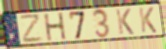3: (92, 7, 111, 40)
7: (68, 10, 87, 41)
H: (42, 11, 68, 42)
K: (114, 8, 135, 36), (137, 6, 158, 34)
Z: (19, 13, 44, 45)
